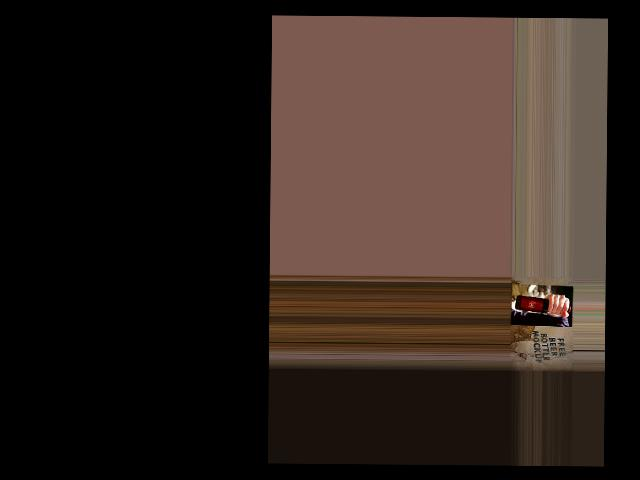beer: (514, 295, 570, 313)
